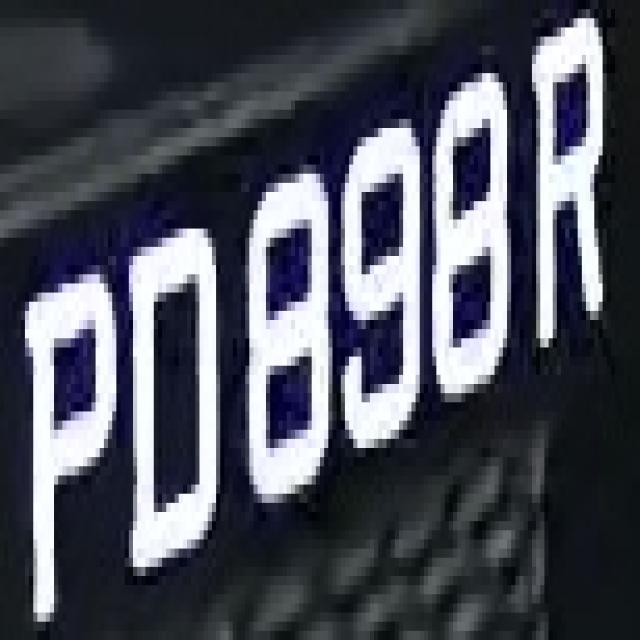8: (229, 137, 349, 558), (424, 46, 528, 430)
9: (337, 110, 432, 493)
D: (112, 192, 233, 622)
P: (12, 237, 112, 640)
R: (524, 0, 623, 375)
